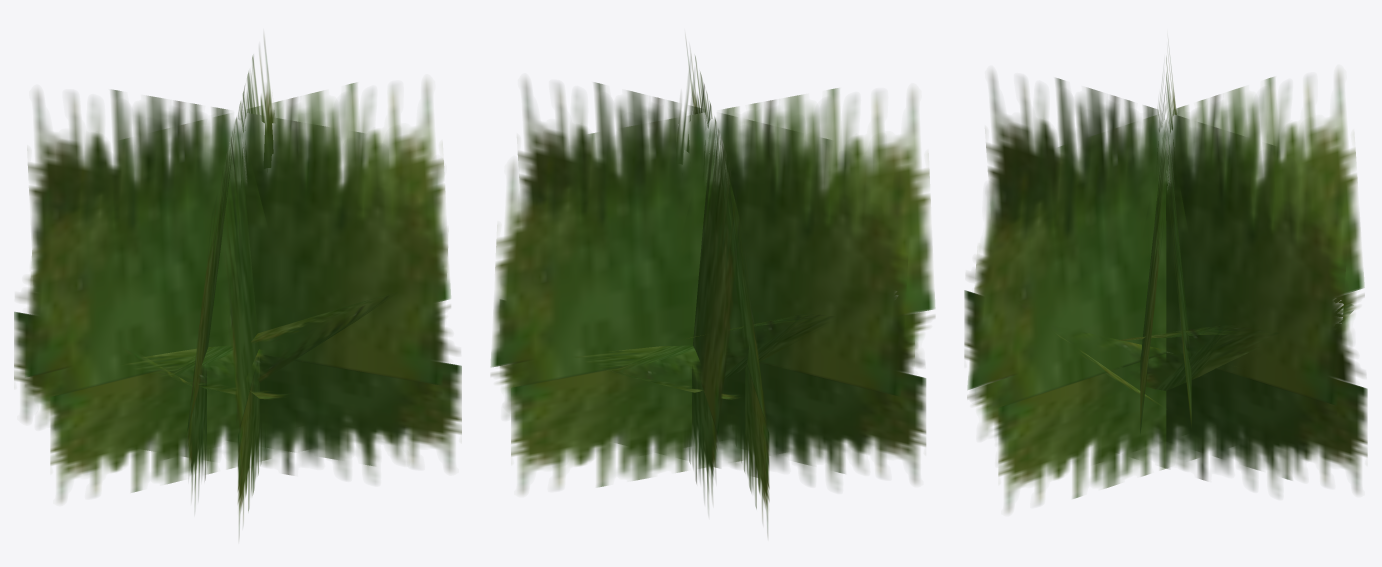
The model's file is Grass03.glb.
3 views of the same model, side by side, from view 1: azimuth 30°, elevation 25°; view 2: azimuth 150°, elevation 25°; view 3: azimuth 270°, elevation 25° (orthographic).
Visible parts, largest first — view 1: Grass03; view 2: Grass03; view 3: Grass03.
Part boxes in pixels (x1=…): Grass03: x1=14, y1=38, x2=461, y2=536; Grass03: x1=491, y1=42, x2=934, y2=534; Grass03: x1=964, y1=57, x2=1367, y2=511.
Size of the model in its own units: 2.68 by 2.19 by 2.33.
1 material, 1 textured.
